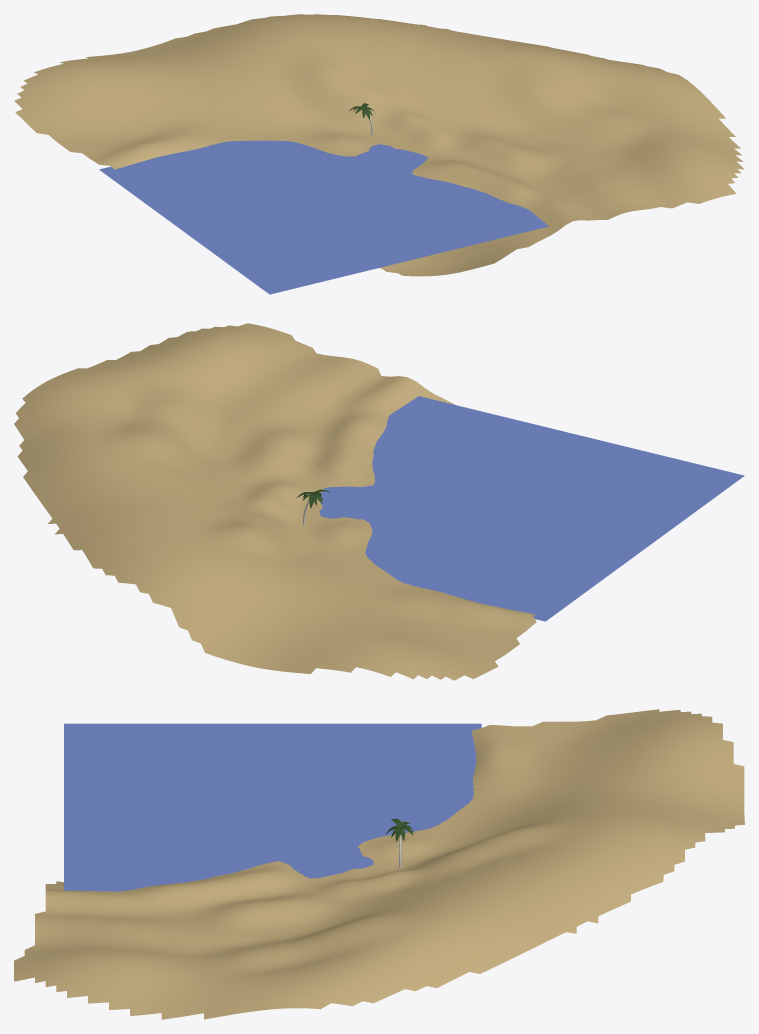
The model's file is demo-map.glb.
3 renders of one model, top to bottom at view 1: azimuth 30°, elevation 25°; view 2: azimuth 150°, elevation 25°; view 3: azimuth 270°, elevation 25°, orthographic. The views are drawn at different scales.
Visible parts, largest first — view 1: Sand, water; view 2: Sand, water; view 3: Sand, water.
Part boxes in pixels (box(x1,y1,x2,y2)): Sand: box(14, 14, 744, 276); water: box(99, 140, 548, 294); Sand: box(14, 323, 536, 680); water: box(319, 396, 744, 621); Sand: box(14, 709, 744, 1019); water: box(64, 723, 481, 891).
Size of what is drawn, in the model's own units: 70.75 by 10.47 by 69.79.
Materials: 3 (3 with a texture image).
